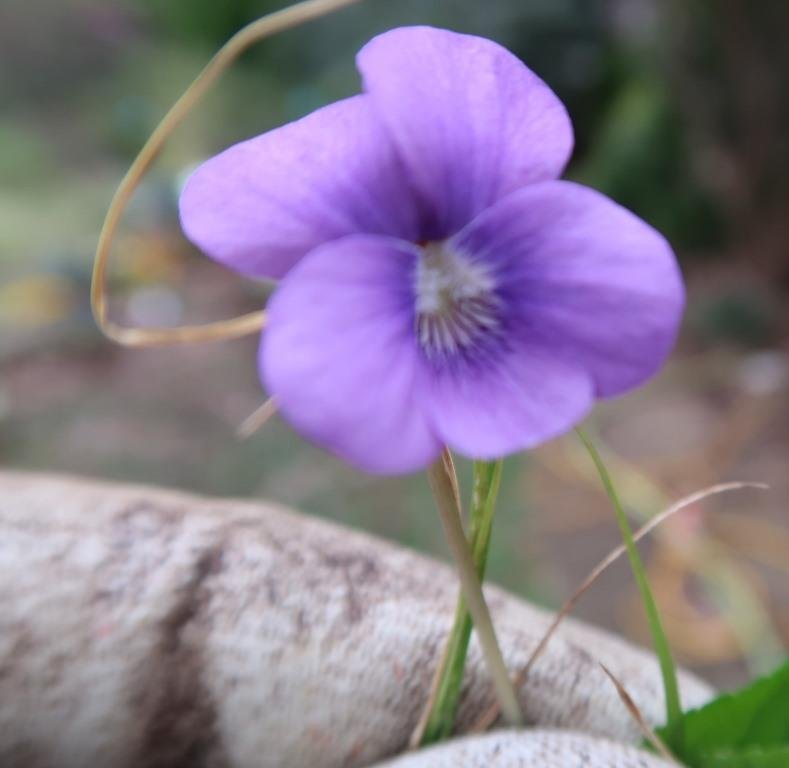violet: (167, 15, 689, 478)
